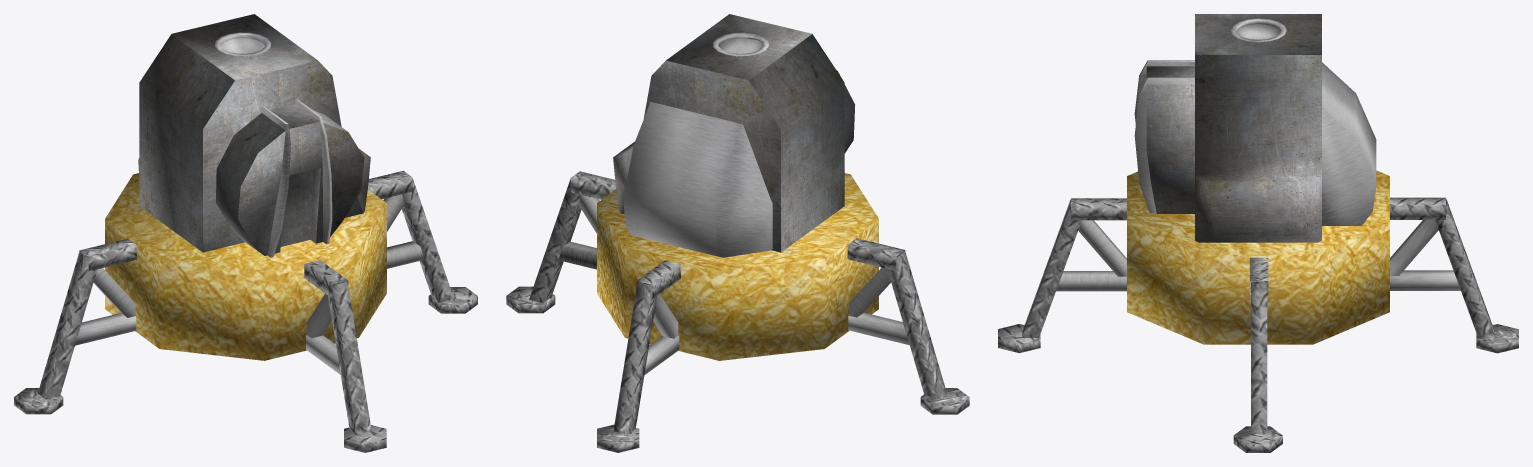
Rendered from LunarLander.Display.obj.
3 renders of one model, left to right at view 1: azimuth 30°, elevation 25°; view 2: azimuth 150°, elevation 25°; view 3: azimuth 270°, elevation 25°, orthographic.
Visible parts, largest first — view 1: LunarLander.Display; view 2: LunarLander.Display; view 3: LunarLander.Display.
Boxes of the visible parts, x1=… form: LunarLander.Display: x1=14, y1=14, x2=477, y2=452; LunarLander.Display: x1=506, y1=14, x2=969, y2=452; LunarLander.Display: x1=998, y1=14, x2=1518, y2=452.
Size of the model in its own units: 1.37 by 0.9056 by 1.37.
